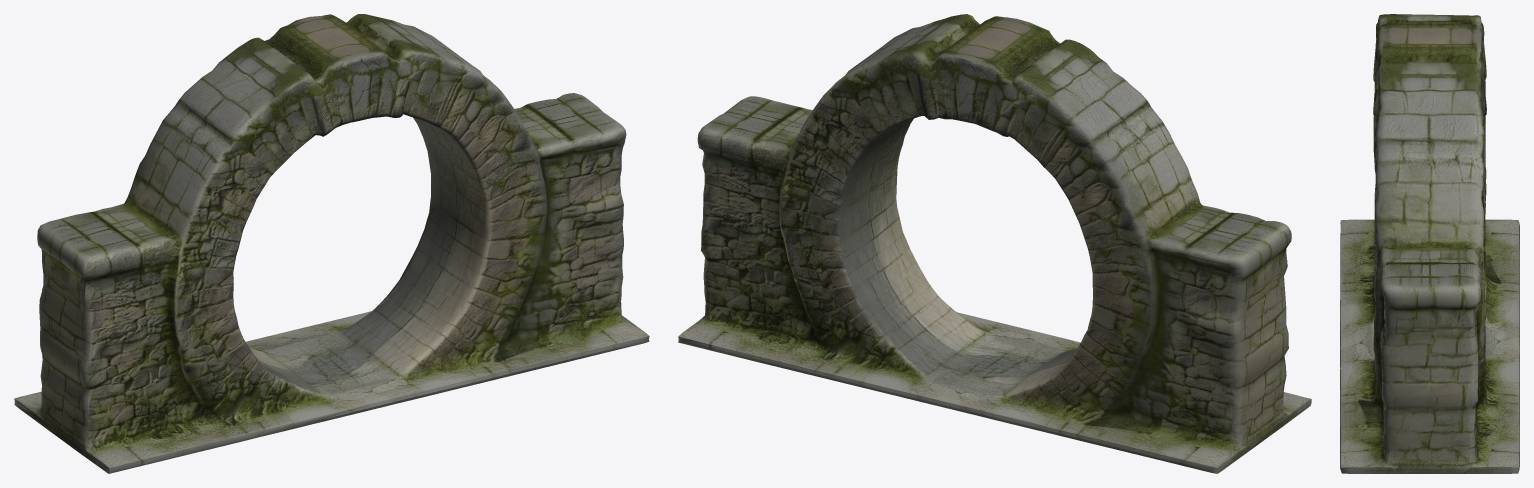
File: stone_ring.glb
The picture shows the model from 3 angles, left to right: view 1: azimuth 30°, elevation 25°; view 2: azimuth 150°, elevation 25°; view 3: azimuth 270°, elevation 25°; orthographic projection. The views are drawn at different scales.
Parts seen in each view (by area): view 1: stone_ring; view 2: stone_ring; view 3: stone_ring.
Part boxes in pixels (left/top/right/bottom): stone_ring: left=14, top=14, right=649, bottom=473; stone_ring: left=678, top=14, right=1311, bottom=473; stone_ring: left=1340, top=14, right=1519, bottom=473.
Bounding box in the file's own units: 1.91 × 1.12 × 0.5769.
Materials: 1 (1 with a texture image).
